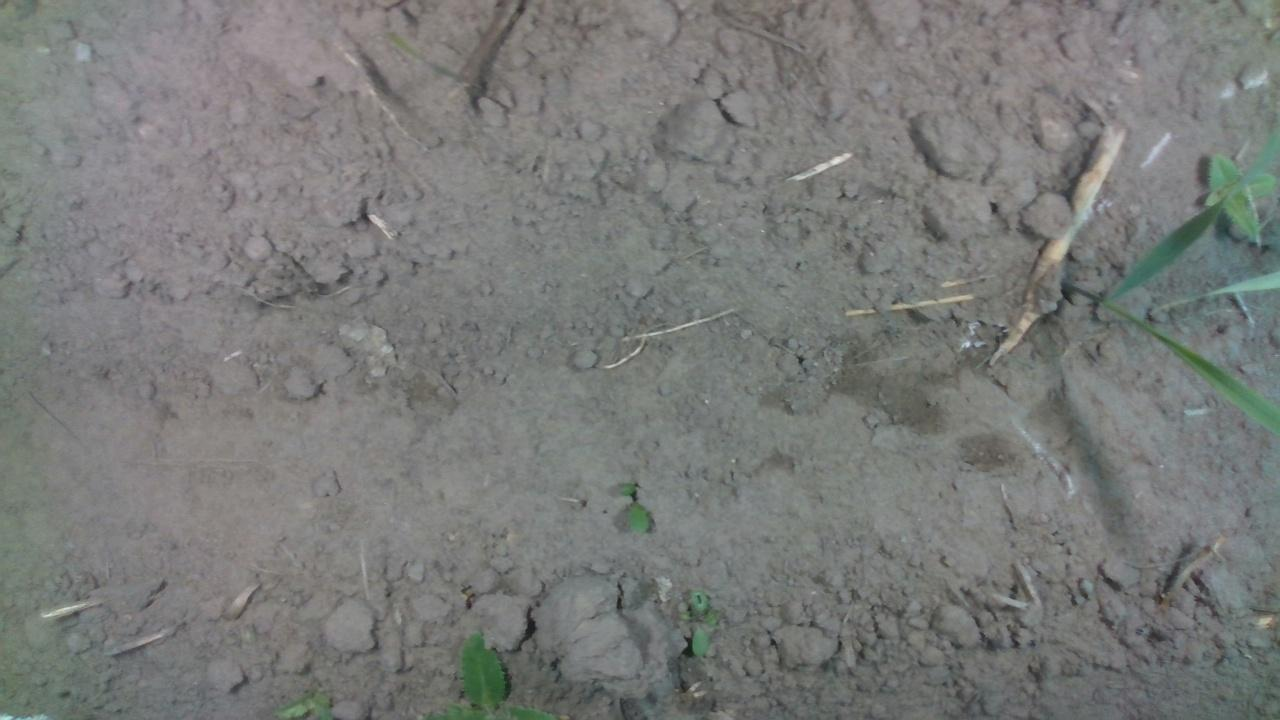weed: (615, 479, 652, 536)
